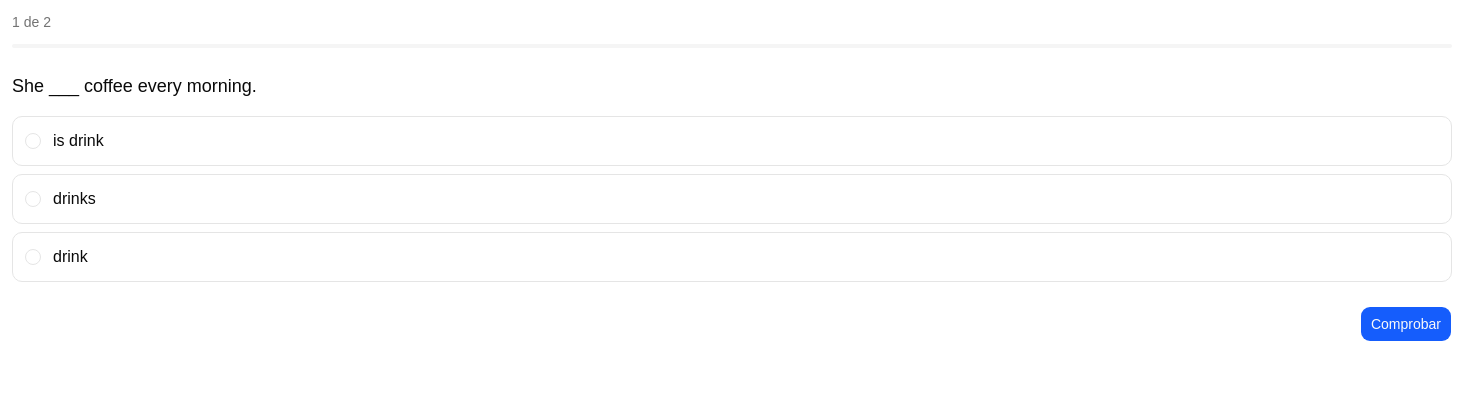
Scenario: ExerciseSession › no corrige una respuesta vacía
Click the button "Comprobar" at (1406, 324), box [1360, 306, 1452, 342]
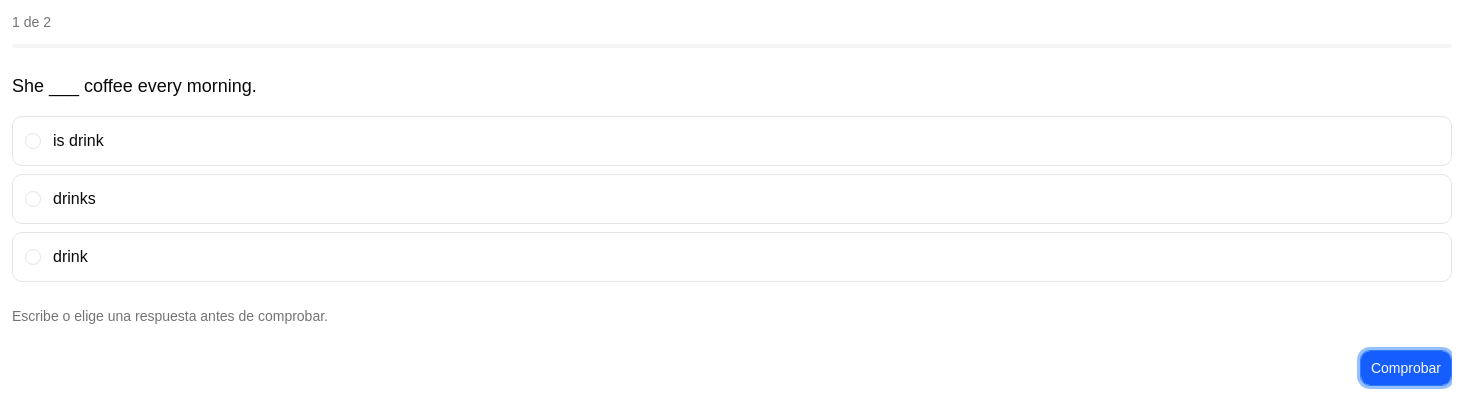
Result: the text "Escribe o elige una respuesta antes de comprobar." is shown at [12, 308, 328, 324]
